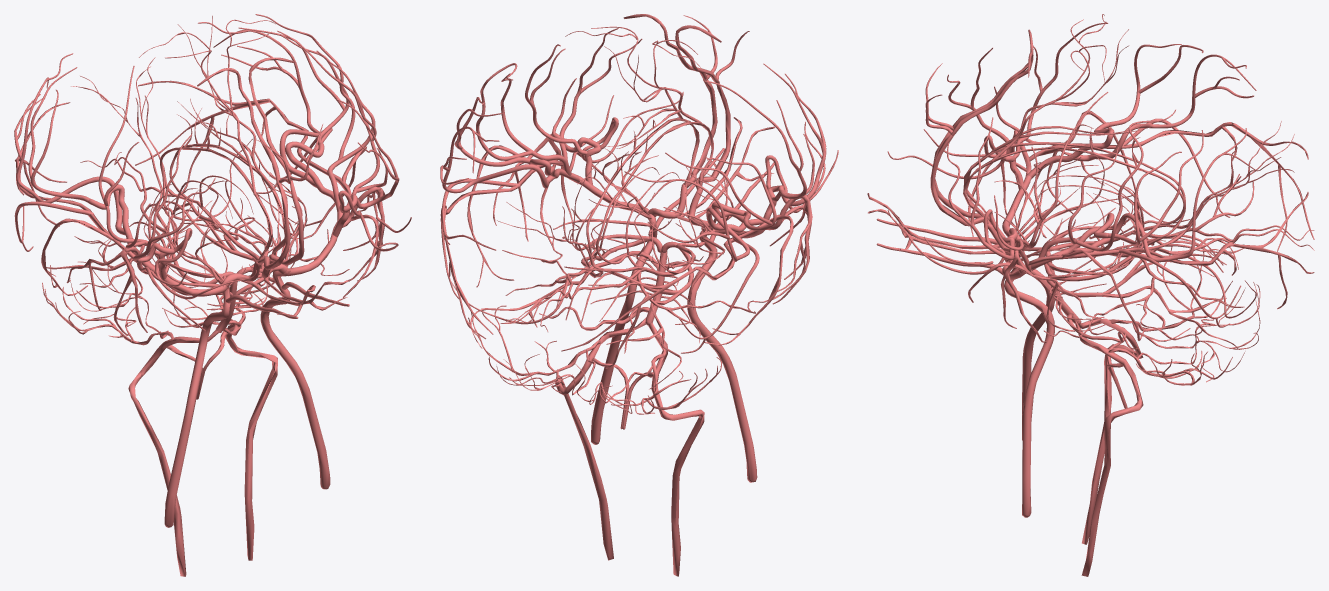
File: arteres-tete.lo.glb
The picture shows the model from 3 angles, left to right: view 1: azimuth 30°, elevation 25°; view 2: azimuth 150°, elevation 25°; view 3: azimuth 270°, elevation 25°; orthographic projection.
Parts seen in each view (by area): view 1: FJ1682, FJ1682M, FJ1725M, FJ1725, FJ1729M, FJ1716, FJ1716M, FJ1724, FJ1729, FJ1659, FJ1724M, FJ1694M (+22 smaller); view 2: FJ1682, FJ1725M, FJ1725, FJ1682M, FJ1729, FJ1729M, FJ1716, FJ1716M, FJ1724M, FJ1724, FJ1659M, FJ1659 (+17 smaller); view 3: FJ1682M, FJ1725M, FJ1725, FJ1729, FJ1729M, FJ1716M, FJ1659M, FJ1716, FJ1682, FJ1724M, FJ1699M, FJ1699 (+14 smaller).
Boxes of the visible parts, x1,y1,x2,y2 form: FJ1682: (164, 285, 230, 527); FJ1682M: (260, 269, 330, 489); FJ1725M: (223, 324, 277, 560); FJ1725: (128, 329, 218, 576); FJ1729M: (135, 80, 351, 196); FJ1716: (16, 53, 128, 235); FJ1716M: (198, 22, 319, 187); FJ1724: (133, 134, 215, 262); FJ1729: (15, 102, 136, 262); FJ1659: (66, 248, 147, 335); FJ1724M: (336, 99, 399, 212); FJ1694M: (285, 141, 343, 220); FJ1682: (687, 228, 757, 482); FJ1725M: (555, 317, 646, 560); FJ1725: (648, 322, 704, 576); FJ1682M: (591, 214, 657, 444); FJ1729: (561, 214, 780, 368); FJ1729M: (440, 160, 563, 339); FJ1716: (624, 171, 749, 261); FJ1716M: (442, 126, 557, 193); FJ1724M: (559, 28, 642, 157); FJ1724: (763, 63, 826, 206); FJ1659M: (493, 134, 574, 250); FJ1659: (772, 195, 812, 304); FJ1682M: (1004, 261, 1054, 517); FJ1725M: (1075, 320, 1143, 576); FJ1725: (1079, 318, 1143, 544); FJ1729: (1029, 122, 1314, 251); FJ1729M: (1028, 192, 1314, 309); FJ1716M: (1072, 128, 1256, 261); FJ1659M: (1001, 251, 1104, 342); FJ1716: (1071, 54, 1256, 161); FJ1682: (1004, 230, 1054, 440); FJ1724M: (947, 117, 1014, 260); FJ1699M: (963, 134, 1146, 223); FJ1699: (964, 125, 1146, 213).
Bounding box in the file's own units: 0.1447 × 0.232 × 0.1789.
